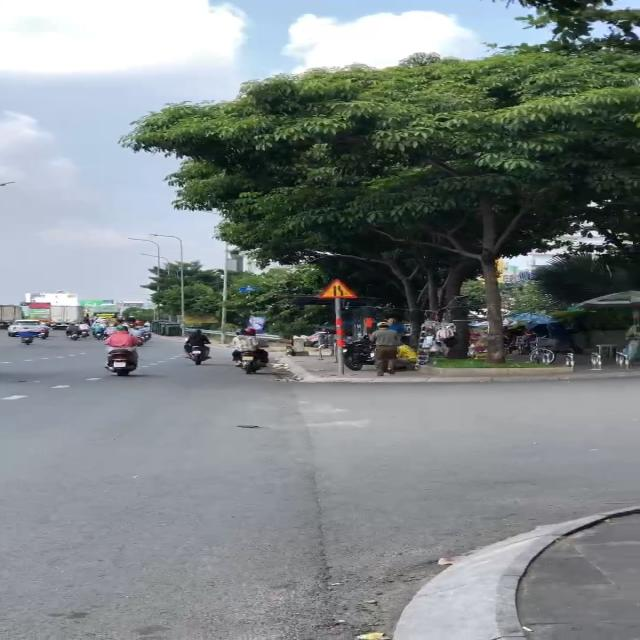Bien bao duong bi thu hep: (314, 275, 362, 302)
